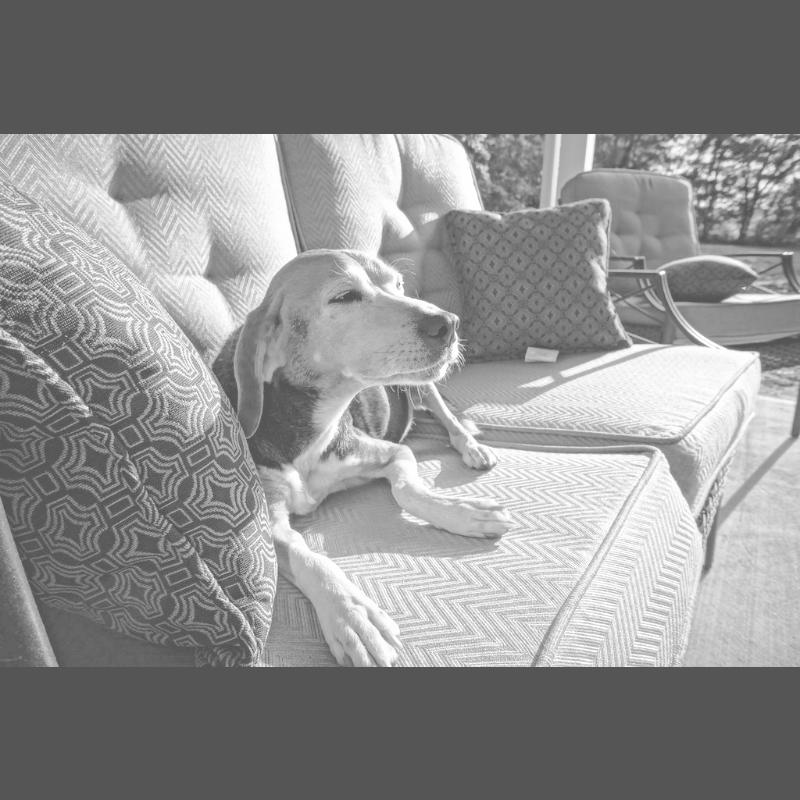pillow: (1, 160, 311, 665), (434, 199, 634, 346), (652, 250, 756, 304)
